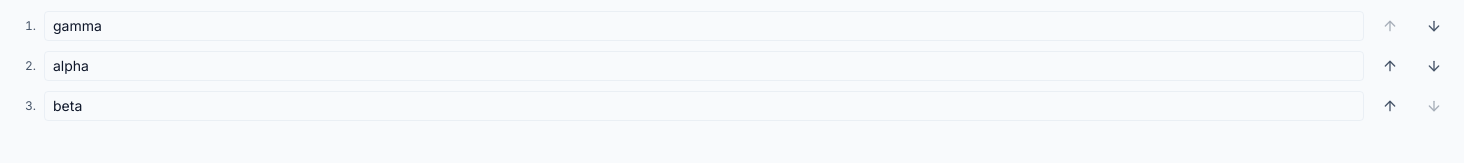
Test case: OrderingAnswer › submits the sequence the student arranged, in that order
Click the button named "Move alpha up".
click(1390, 66)  # box [1372, 48, 1408, 84]
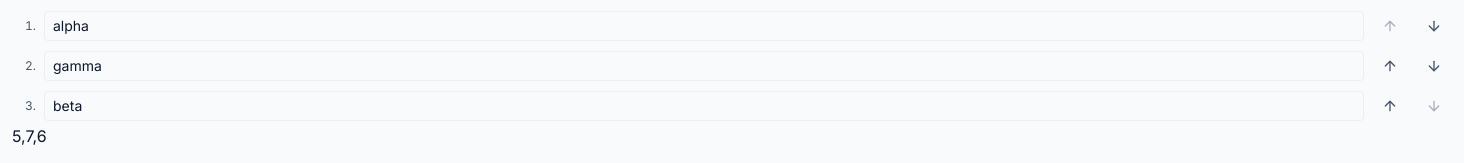
Now the text with test id "submitted" reads "5,7,6", box [12, 126, 47, 146]
